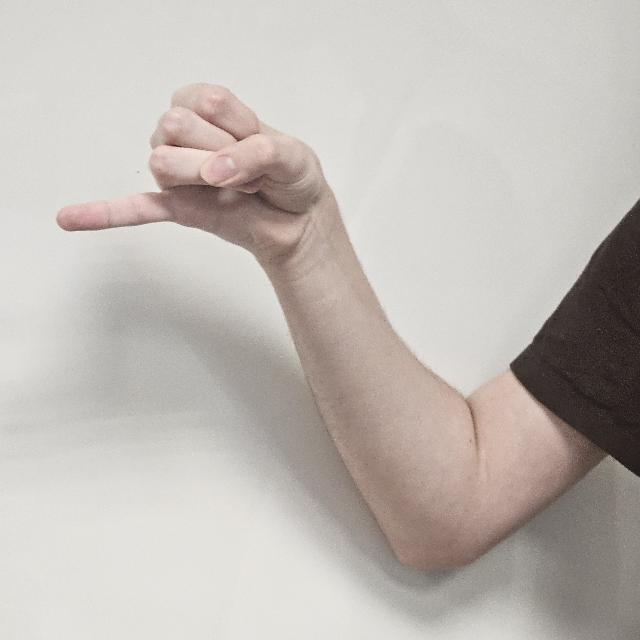Esquerda: (58, 74, 332, 284)
